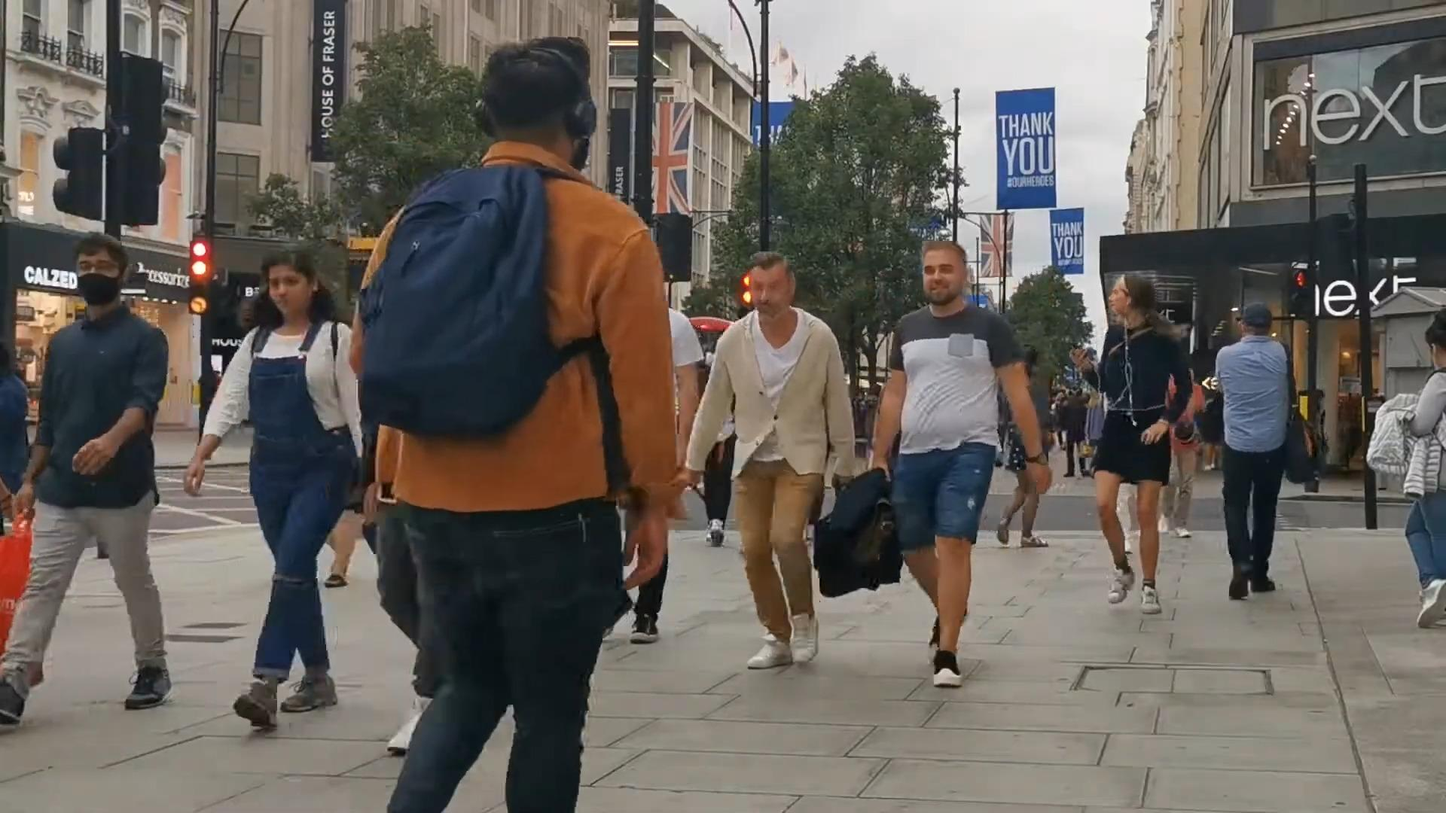no-helmet: (474, 35, 597, 173), (260, 248, 327, 318), (75, 231, 129, 310), (749, 251, 797, 322), (922, 240, 967, 309), (1108, 273, 1163, 329), (1424, 307, 1446, 372), (1241, 303, 1273, 338)
